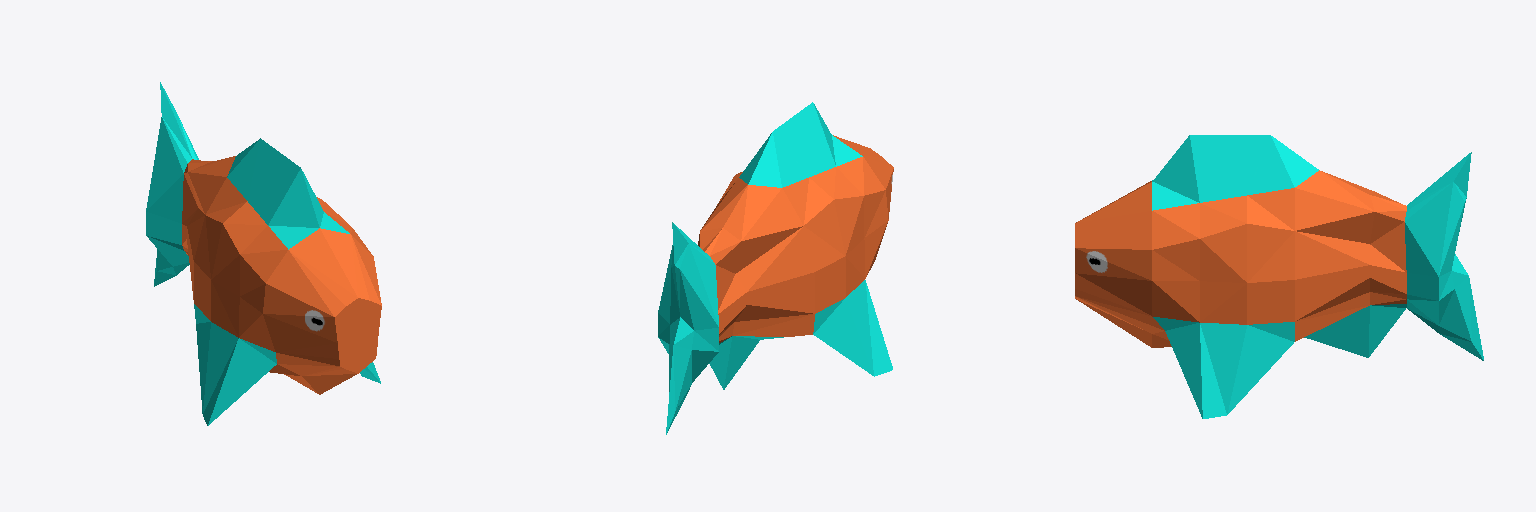
3 renders of one model, left to right at view 1: azimuth 30°, elevation 25°; view 2: azimuth 150°, elevation 25°; view 3: azimuth 270°, elevation 25°, orthographic.
Parts seen in each view (by area): view 1: 円柱; view 2: 円柱; view 3: 円柱.
Boxes of the visible parts, x1=… form: 円柱: x1=146, y1=82, x2=381, y2=425; 円柱: x1=658, y1=102, x2=893, y2=434; 円柱: x1=1075, y1=135, x2=1483, y2=418.
Bounding box in the file's own units: 1.28 × 1.7 × 2.6.
Materials: 1 (1 with a texture image).